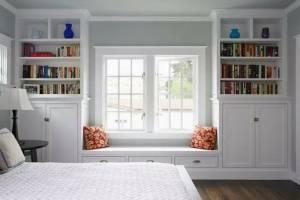window: (93, 46, 206, 140)
